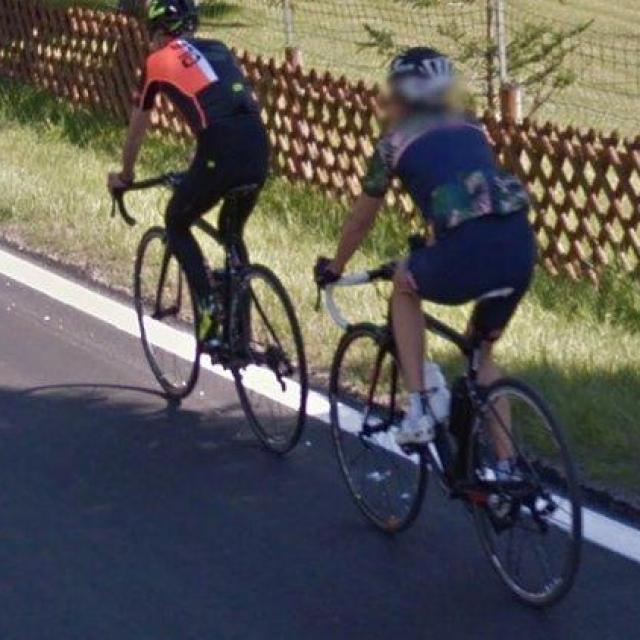bicycle: (292, 233, 582, 599), (31, 130, 306, 469)
